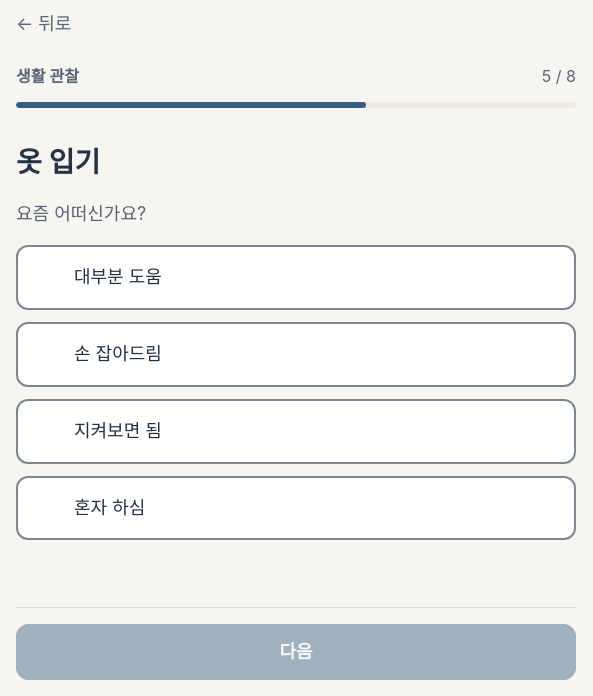
Scenario: 온보딩 기준선 › 마비 쪽을 알면 마비 쪽 손을 묻는다
Click the button "지켜보면 됨".
click(118, 430)  # box [16, 399, 576, 464]
(page scrolled)
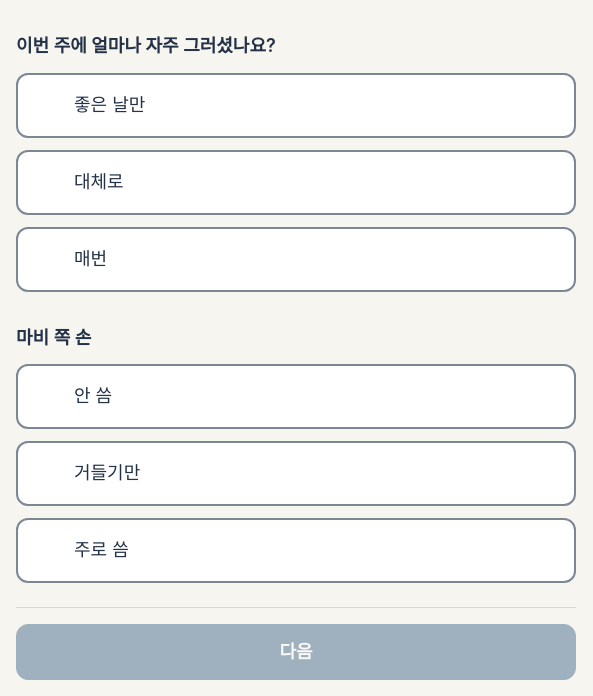
Check: the heading "마비 쪽 손" is shown, box [16, 327, 91, 348]
